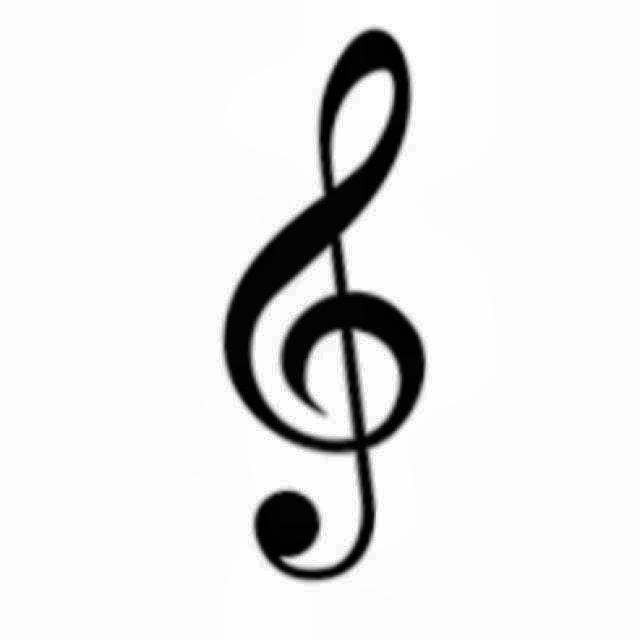Treble-clef: (208, 18, 436, 586)
